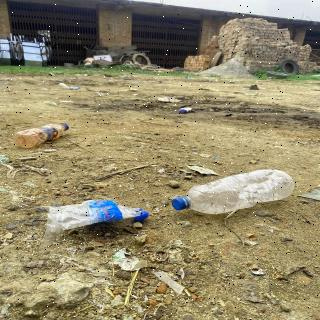Plastic-bottle: (169, 168, 298, 219), (42, 198, 153, 239), (11, 121, 74, 151)
